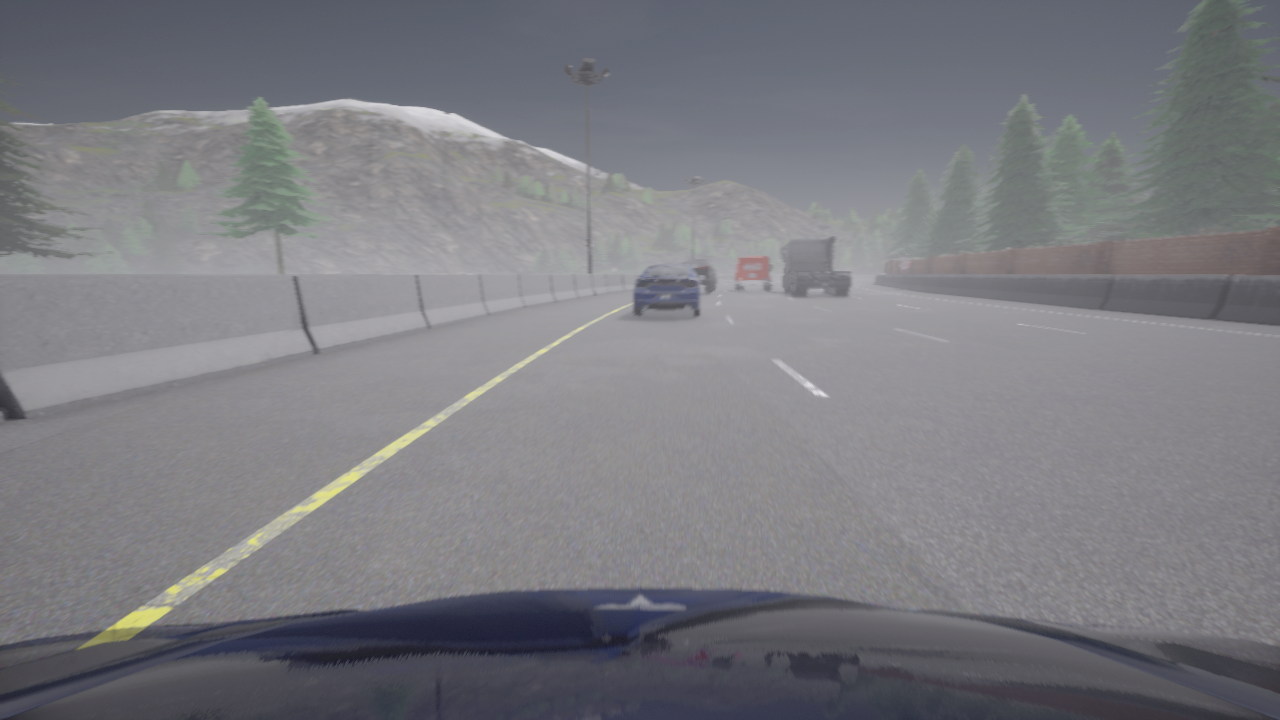cyclist: (0, 588, 1279, 719), (780, 236, 850, 296), (633, 262, 704, 316), (734, 256, 771, 290), (678, 260, 716, 293)
